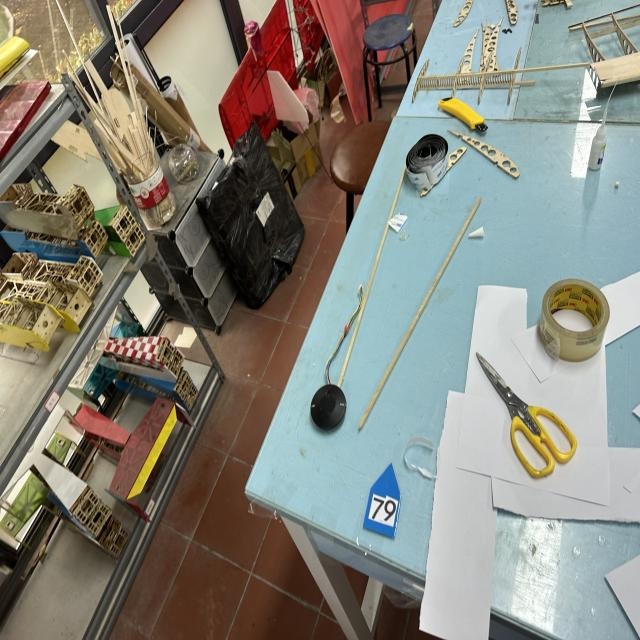board: (362, 461, 403, 540)
